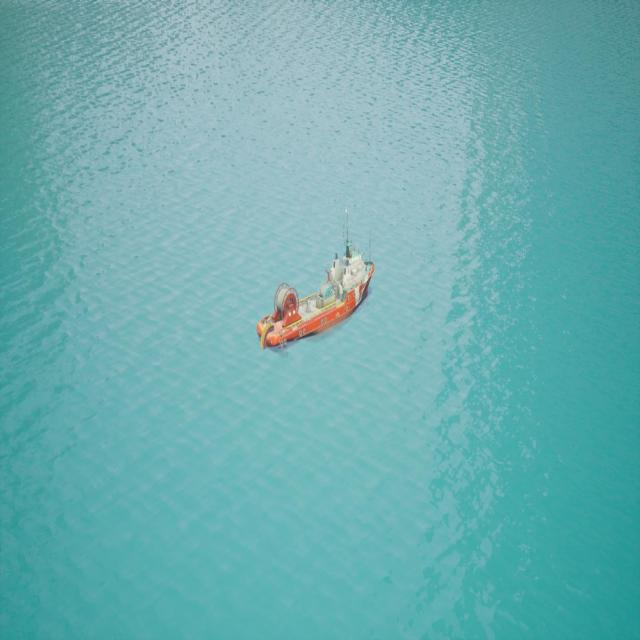tug boat: (257, 249, 374, 351)
